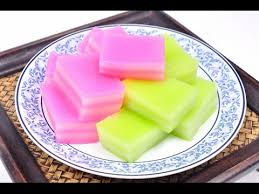kanomchan: (48, 49, 130, 121), (121, 66, 205, 136), (94, 101, 176, 165), (98, 28, 170, 84)
